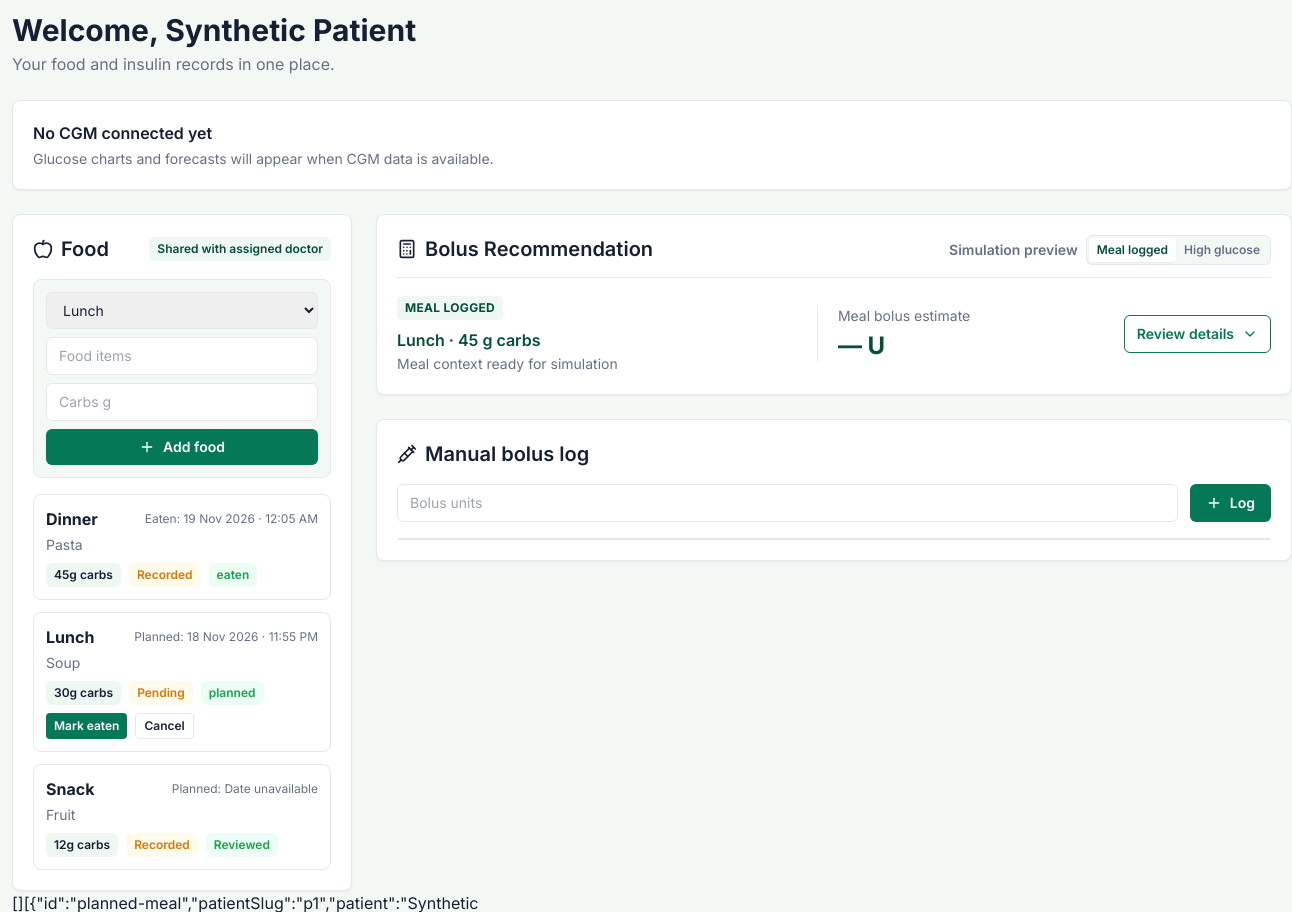
bolus recommendation prototype switches demo states and reveals matching sample inputs
Expected: the heading "Bolus Recommendation" is shown, [397,235,653,263]
Expected: the text "Meal bolus estimate" is shown, [838,307,970,324]
Click the button "Review details": (1197, 334) [1124,315,1271,353]
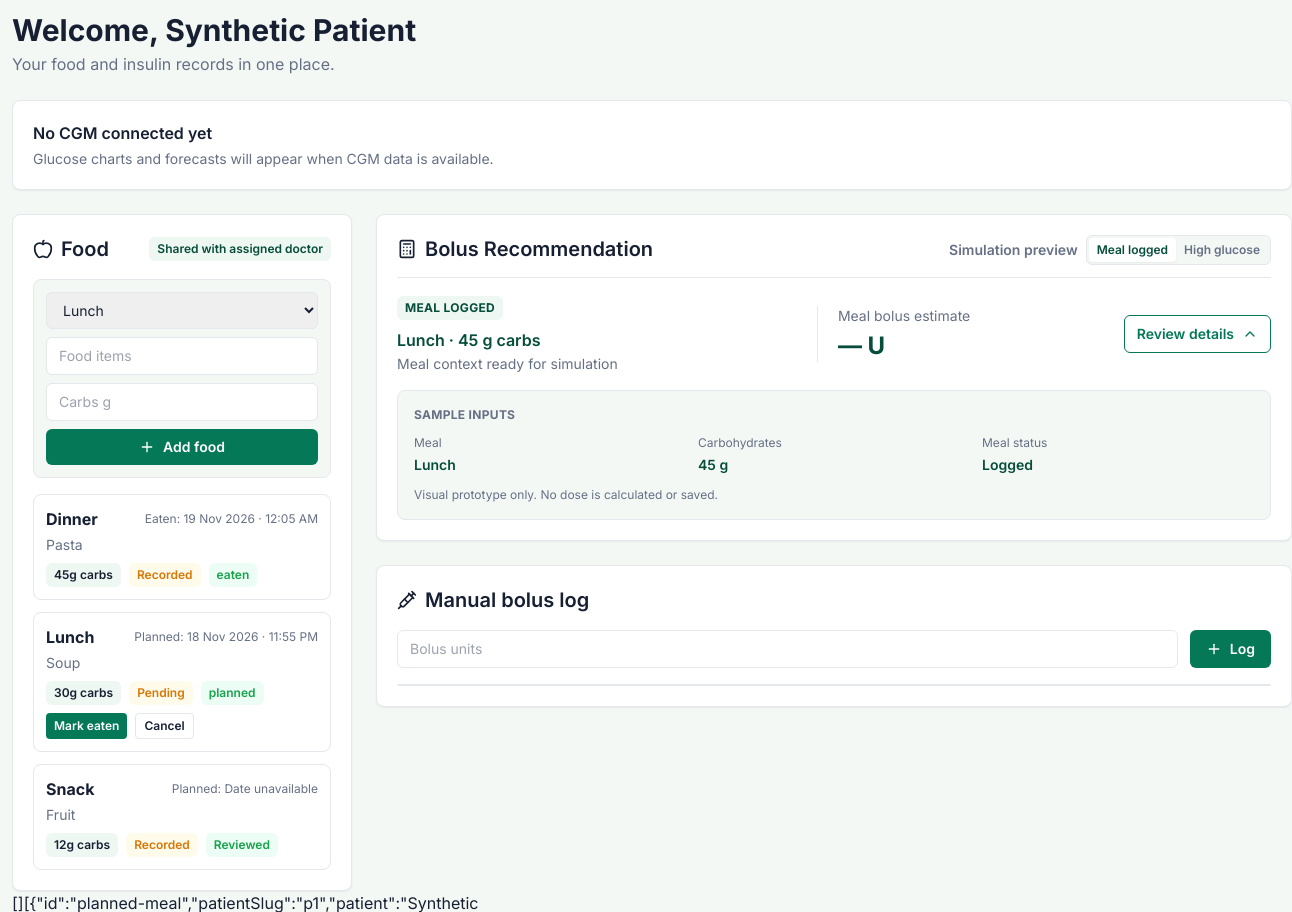
Result: the text "Sample inputs" is shown at [414,407,515,422]
Result: the text "45 g" is shown at [698,456,728,473]
Click the button "High glucose": (1222, 250) [1176,238,1268,262]
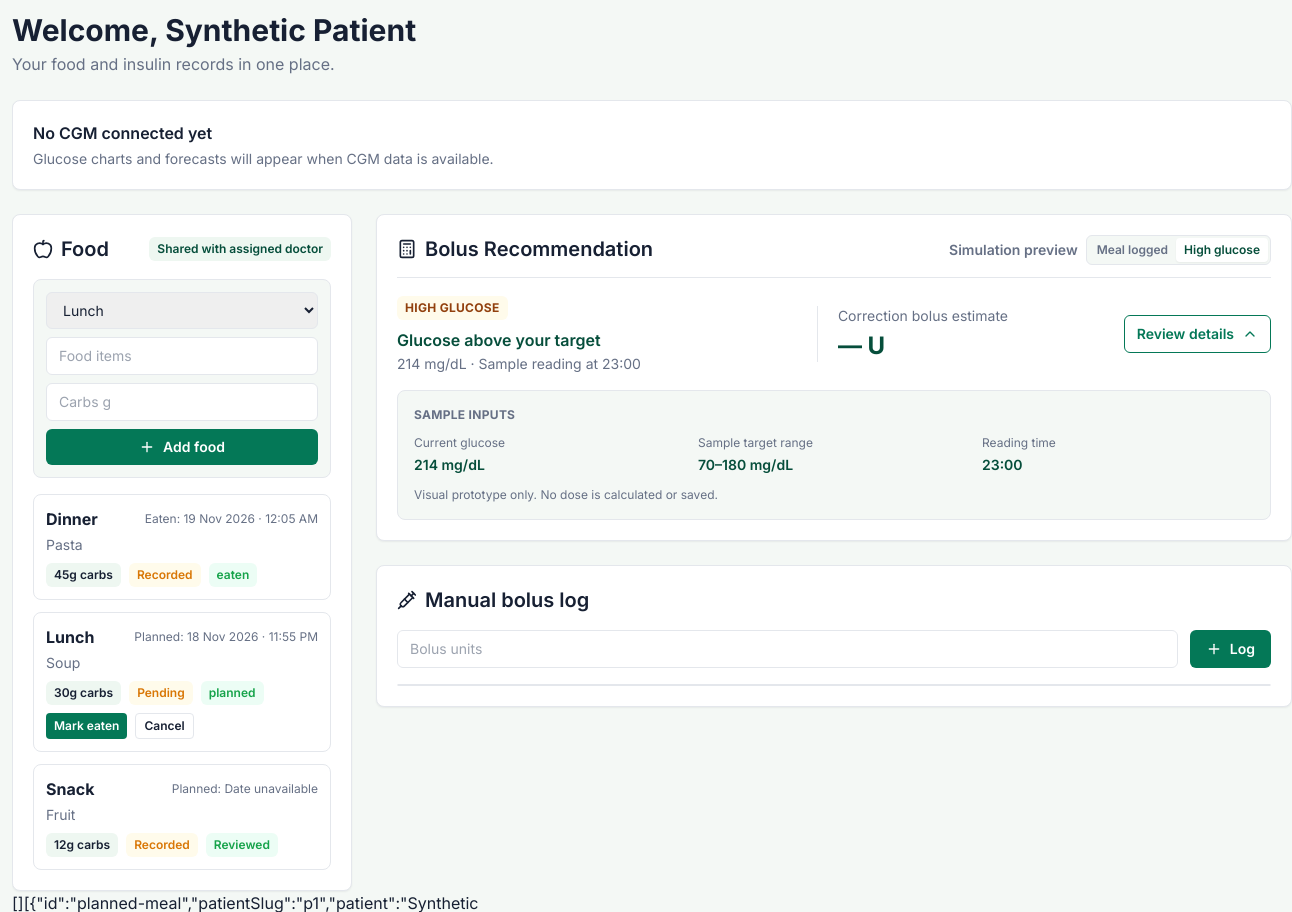
Result: the text "Correction bolus estimate" is shown at [838,307,1008,324]
Result: the text "Glucose above your target" is shown at [397,330,601,350]
Result: the text "214 mg/dL · Sample reading at 23:00" is shown at [397,355,641,372]
